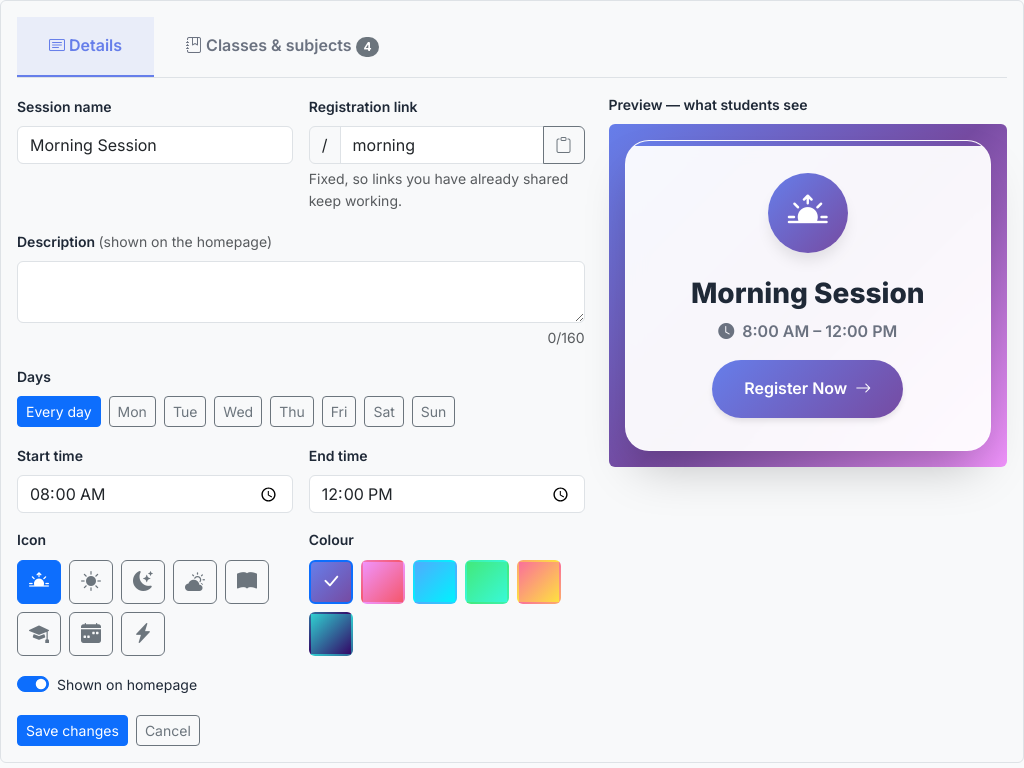
Test: unsaved changes › no pill on open; a pill after an edit on either tab; gone when the edit is undone
Replace the text in the field labelled "Session name" with "Early Birds" at (155, 145), box [17,126,293,164]
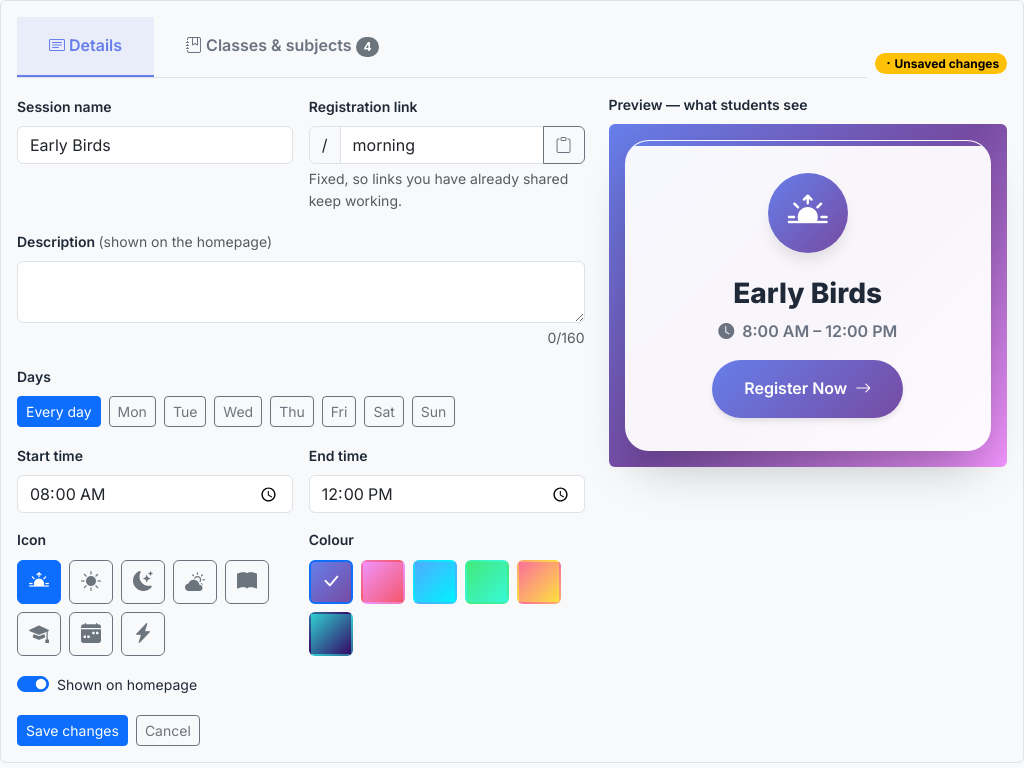
Result: the element with test id "unsaved-pill" reads "Unsaved changes" at [894,55,999,70]
Replace the text in the field labelled "Session name" with "Morning Session" at (155, 145), box [17,126,293,164]
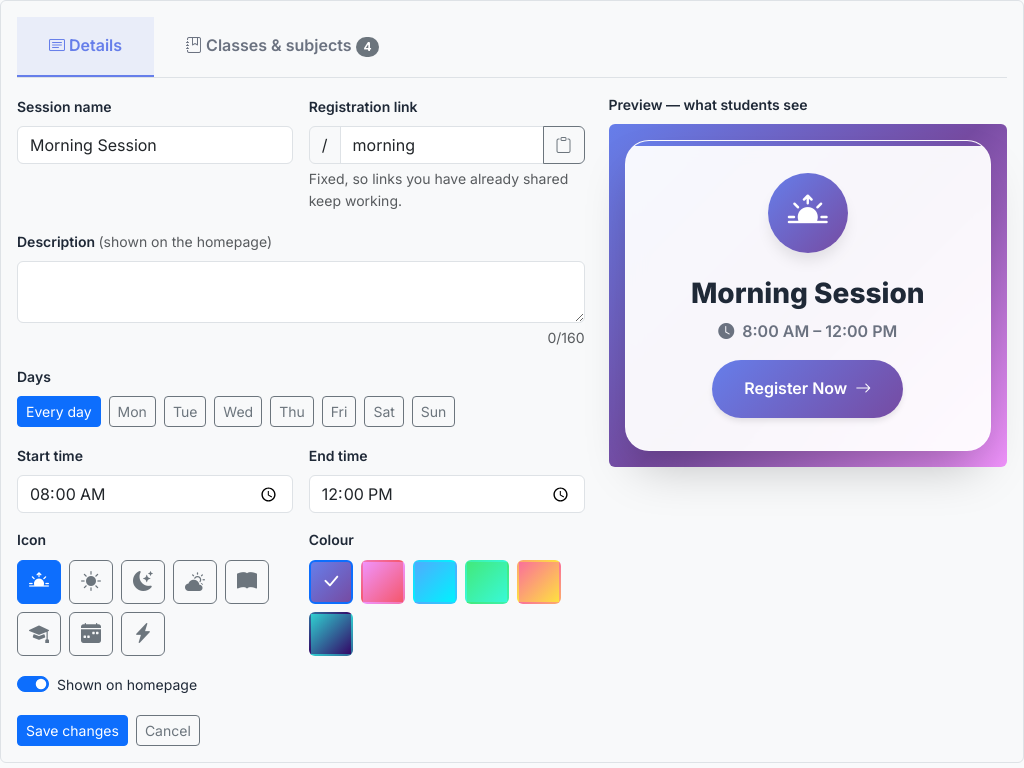
Result: the element with test id "unsaved-pill" is gone
Click the tab "Classes & subjects 4".
click(283, 46)  # box [154,17,411,75]
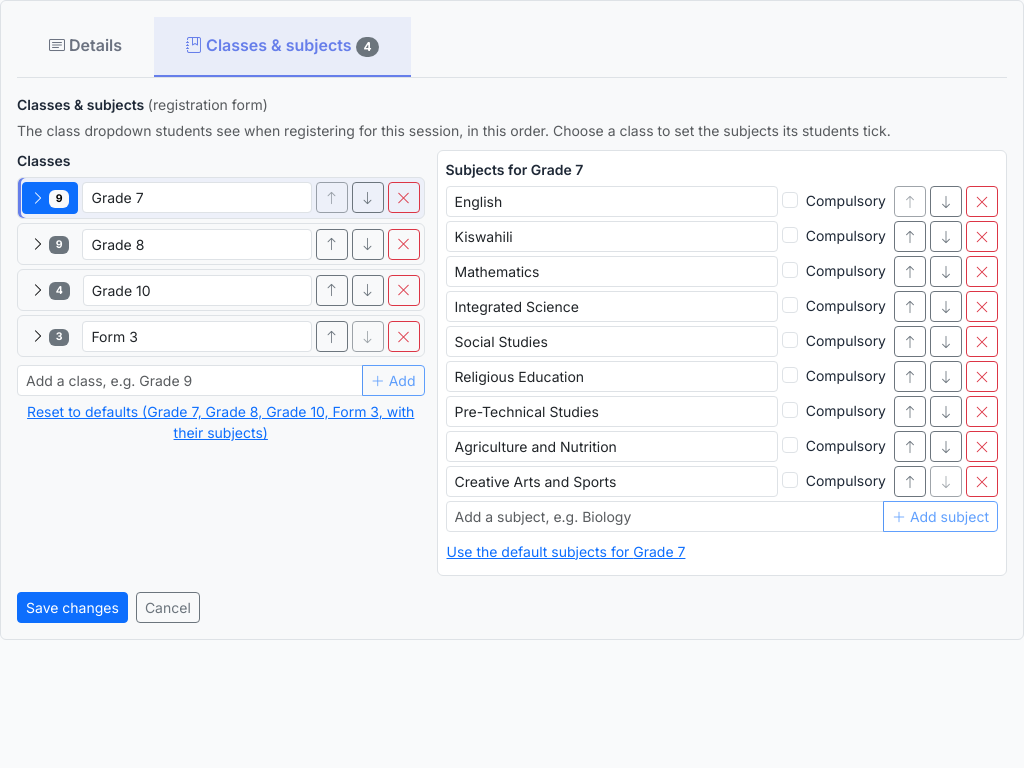
Click the button named "Move Grade 8 up".
click(332, 244)  # box [316,228,348,260]
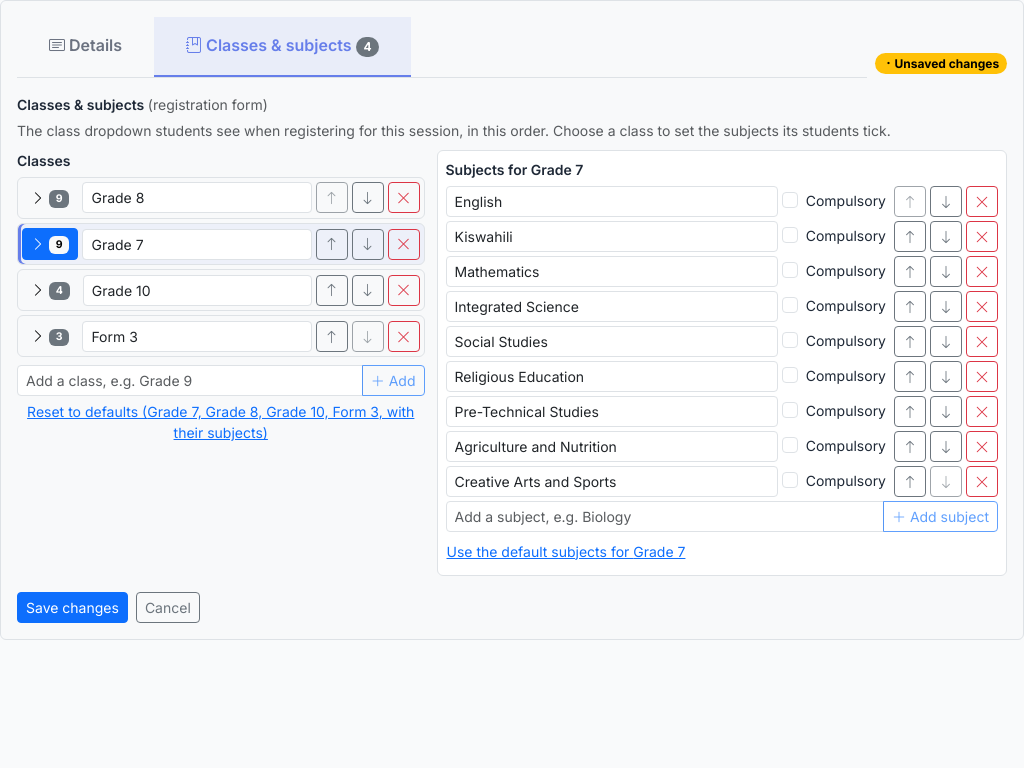
Result: the element with test id "unsaved-pill" is shown at [875,53,1007,74]
